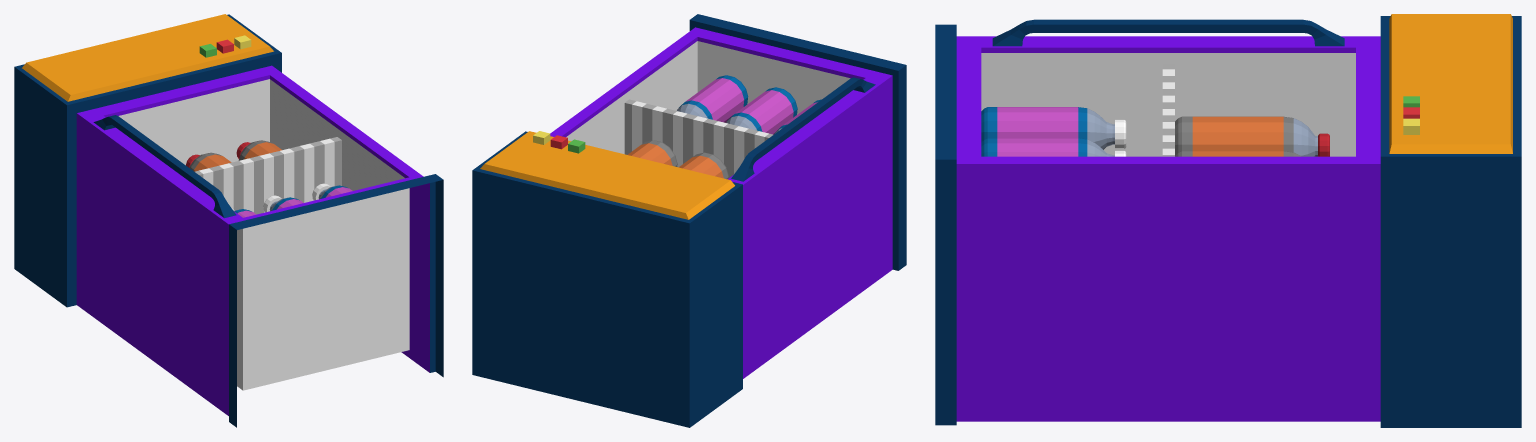
The model's file is fridge.fbx.
3 renders of one model, left to right at view 1: azimuth 30°, elevation 25°; view 2: azimuth 150°, elevation 25°; view 3: azimuth 270°, elevation 25°, orthographic. The views are drawn at different scales.
Visible parts, largest first — view 1: fridge; view 2: fridge; view 3: fridge.
Boxes of the visible parts, x1,y1,x2,y2 form: fridge: (14, 14, 443, 427); fridge: (472, 14, 906, 427); fridge: (935, 14, 1521, 427).
Bounding box in the file's own units: 318 × 303 × 561.
